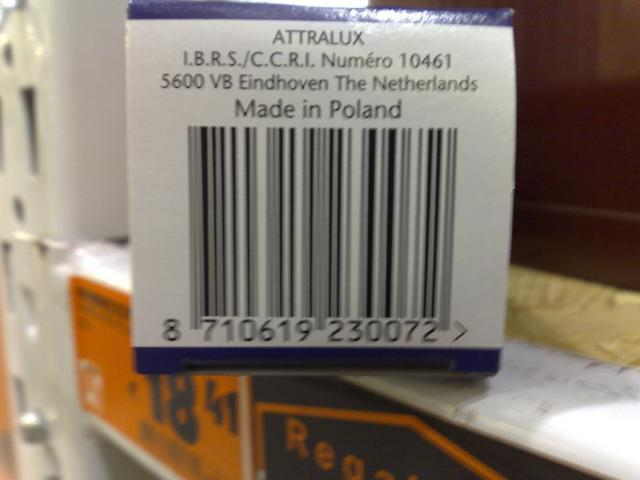Barcode: (156, 123, 474, 349)
